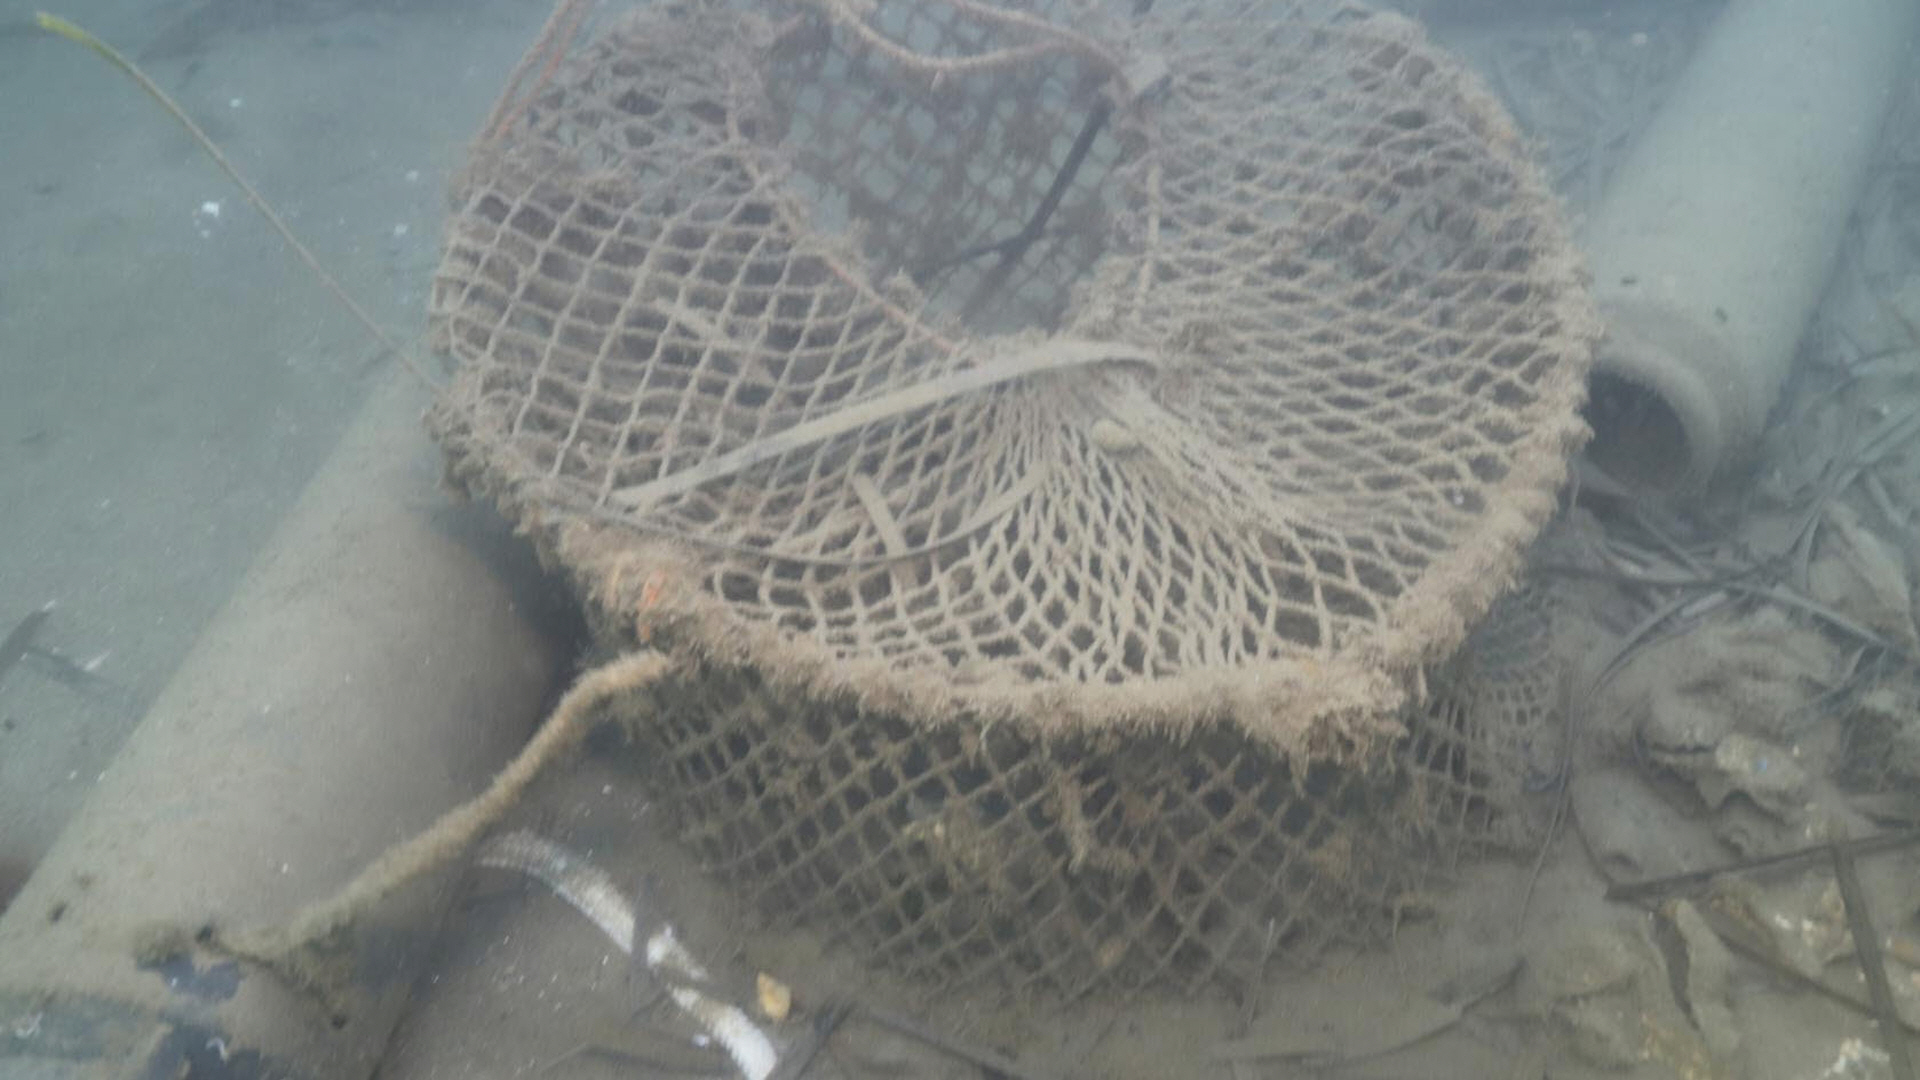circular fish trap: (425, 0, 1590, 1017)
eel fish trap: (0, 309, 585, 1080), (1584, 0, 1920, 508)
rope: (36, 9, 442, 400), (284, 650, 674, 949)
